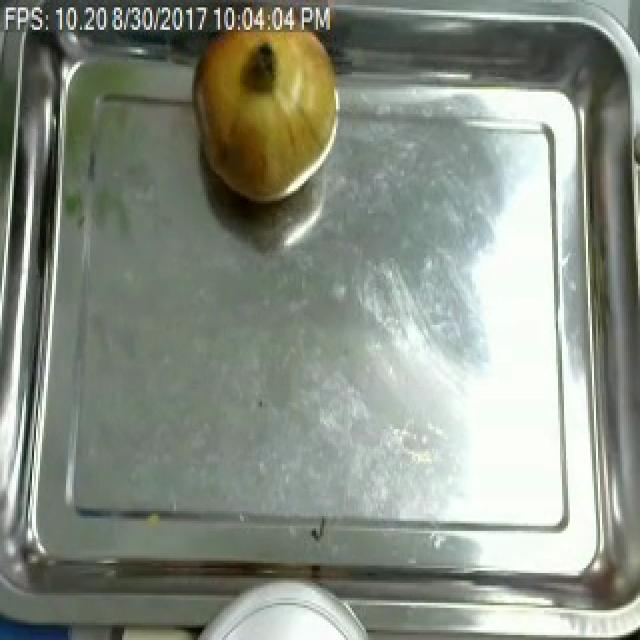fruit: (182, 5, 348, 213)
